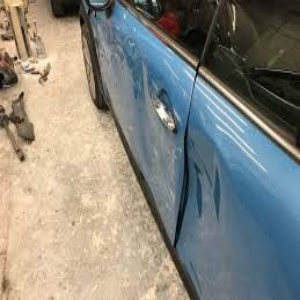bumper: (115, 246, 168, 291)
